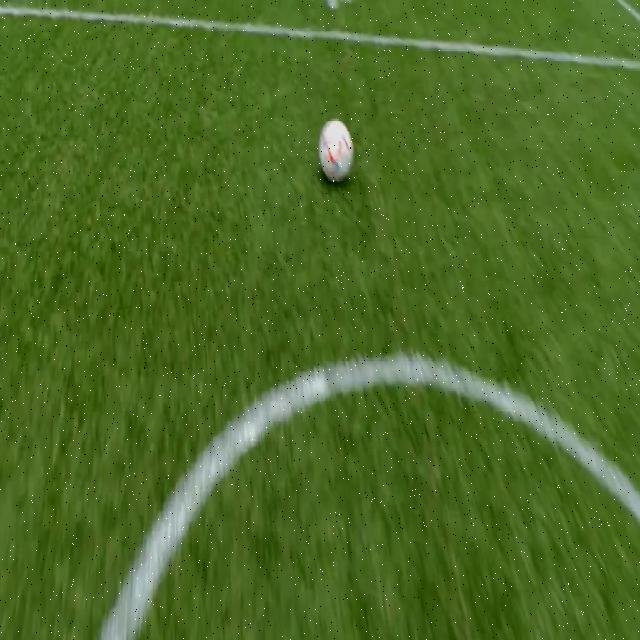ball: (319, 119, 354, 182)
